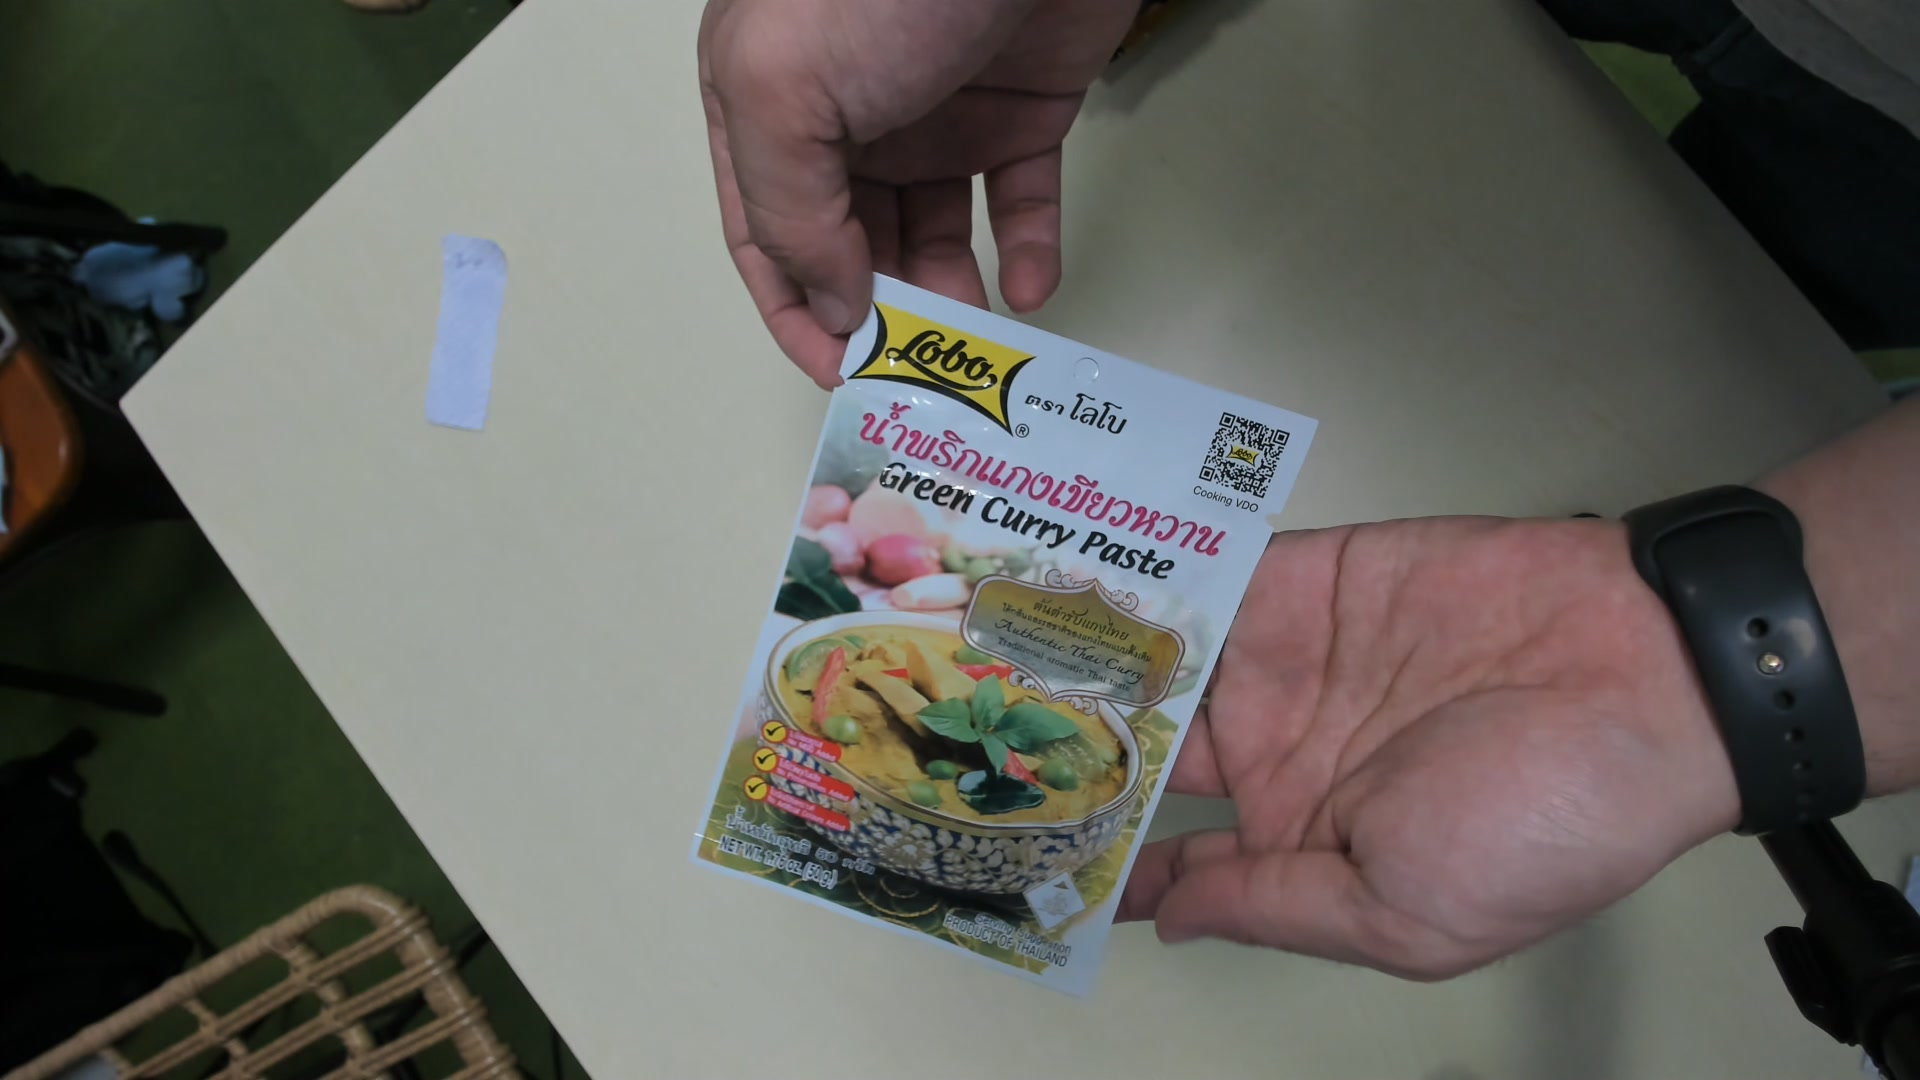OtherSauceDressing_0-99g_Halal_NonHealthy: (698, 258, 1317, 996)
